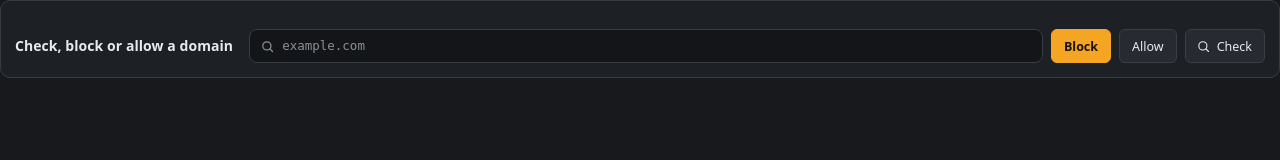
Already one of your rules, while typing › follows the name as it is typed, from the rules it already read
This screenshot has width=1280, height=160.
Type "ads.example.com" into the field named "Domain" at (646, 46), box [249,29,1043,63]
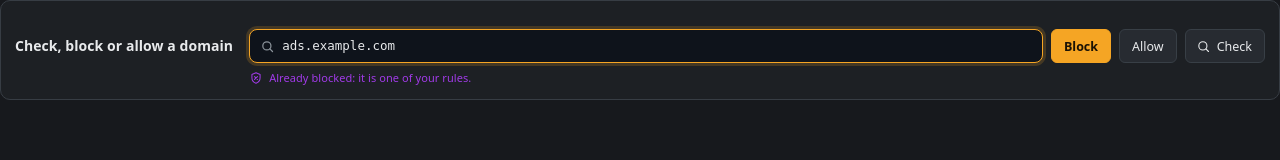
Expected: the text "Already blocked: it is one of your rules." is shown, [269,70,471,85]
Type ".x" into the field named "Domain" at (646, 46), box [249,29,1043,63]
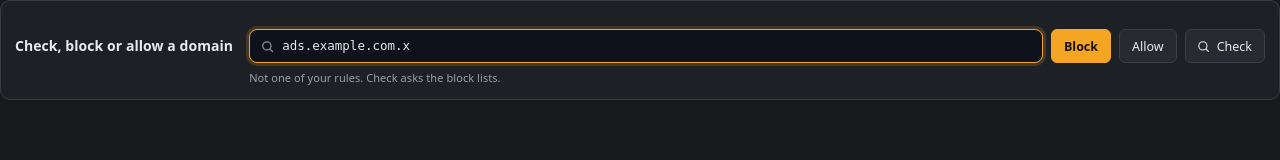
Expected: the text "Not one of your rules. Check asks the block lists." is shown, [249,70,501,85]
Replace the text in the field named "Domain" with "www.ok.example.org" at (646, 46), box [249,29,1043,63]
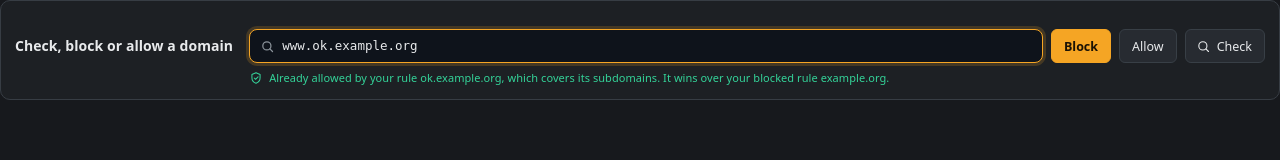
Expected: the text "Already allowed by your rule ok.example.org" is shown, [269,70,889,85]
